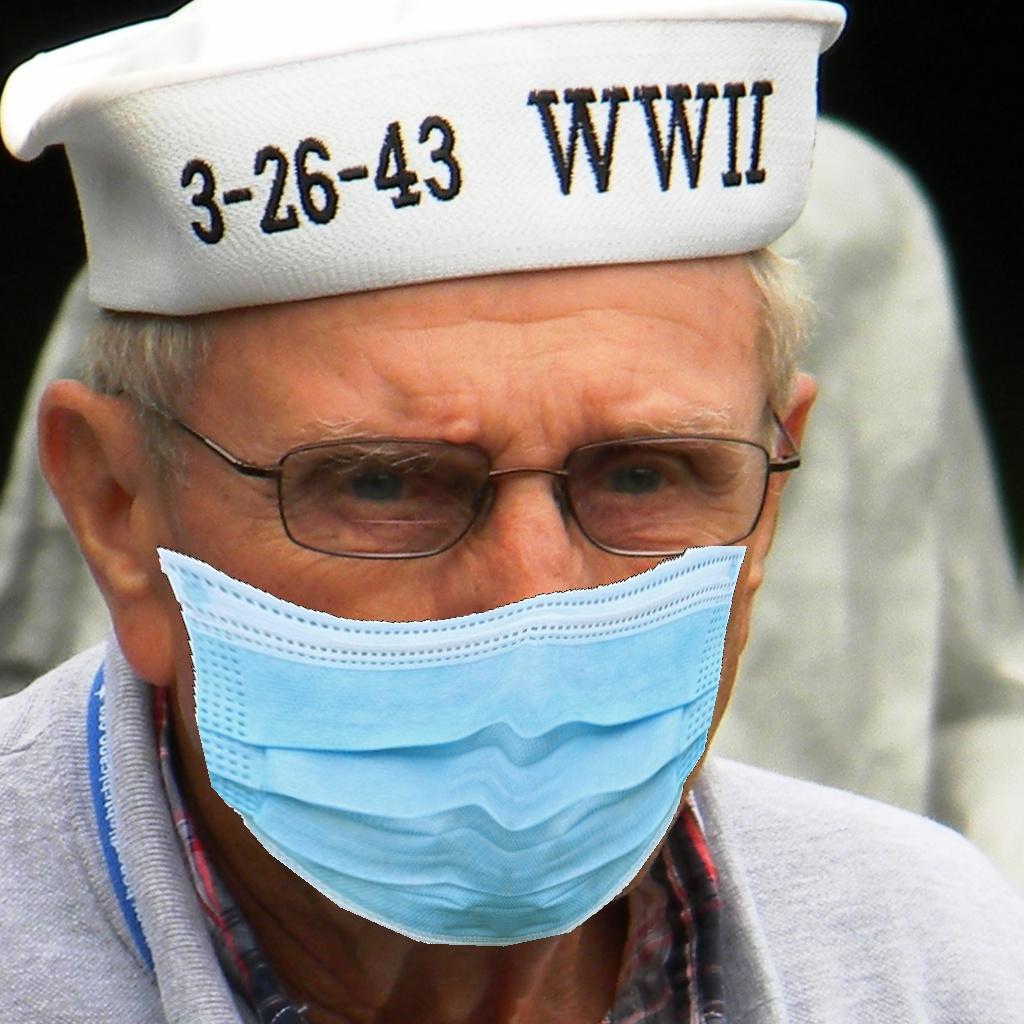Mask: (150, 377, 768, 950)
